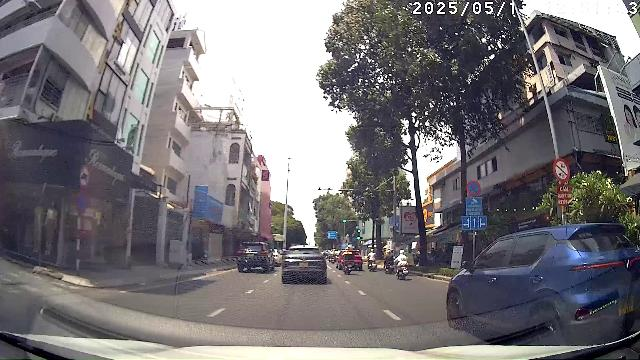130-cam-dung-va-do-xe: (466, 180, 482, 196)
